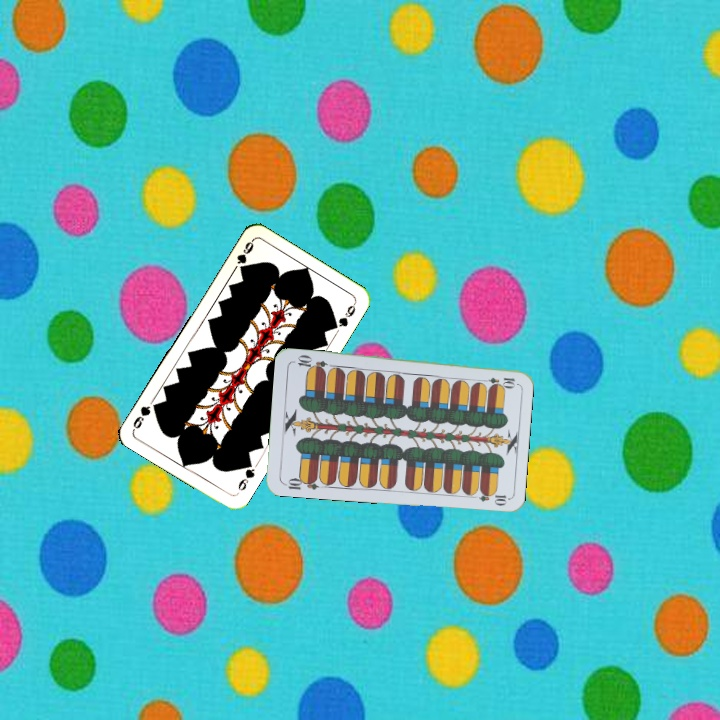E10: (280, 473, 321, 492), (477, 373, 517, 388)
G9: (233, 236, 256, 274), (234, 457, 257, 493)
